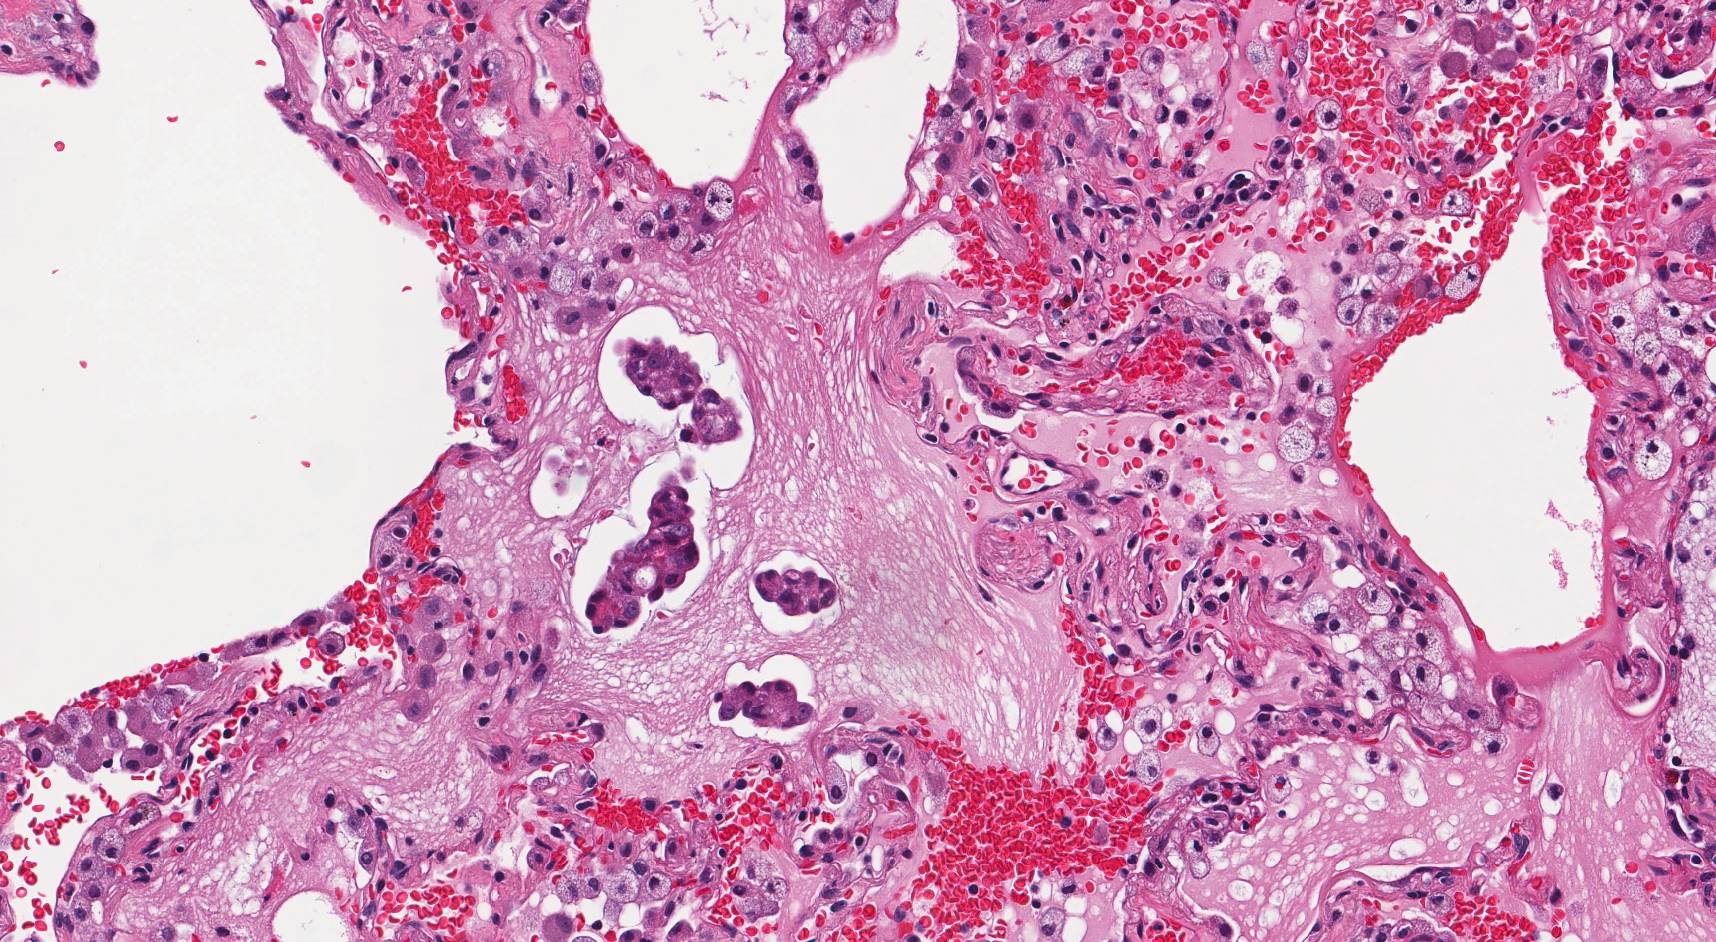stas: (585, 487, 701, 636), (625, 337, 745, 441), (716, 679, 811, 731), (749, 568, 838, 615)
